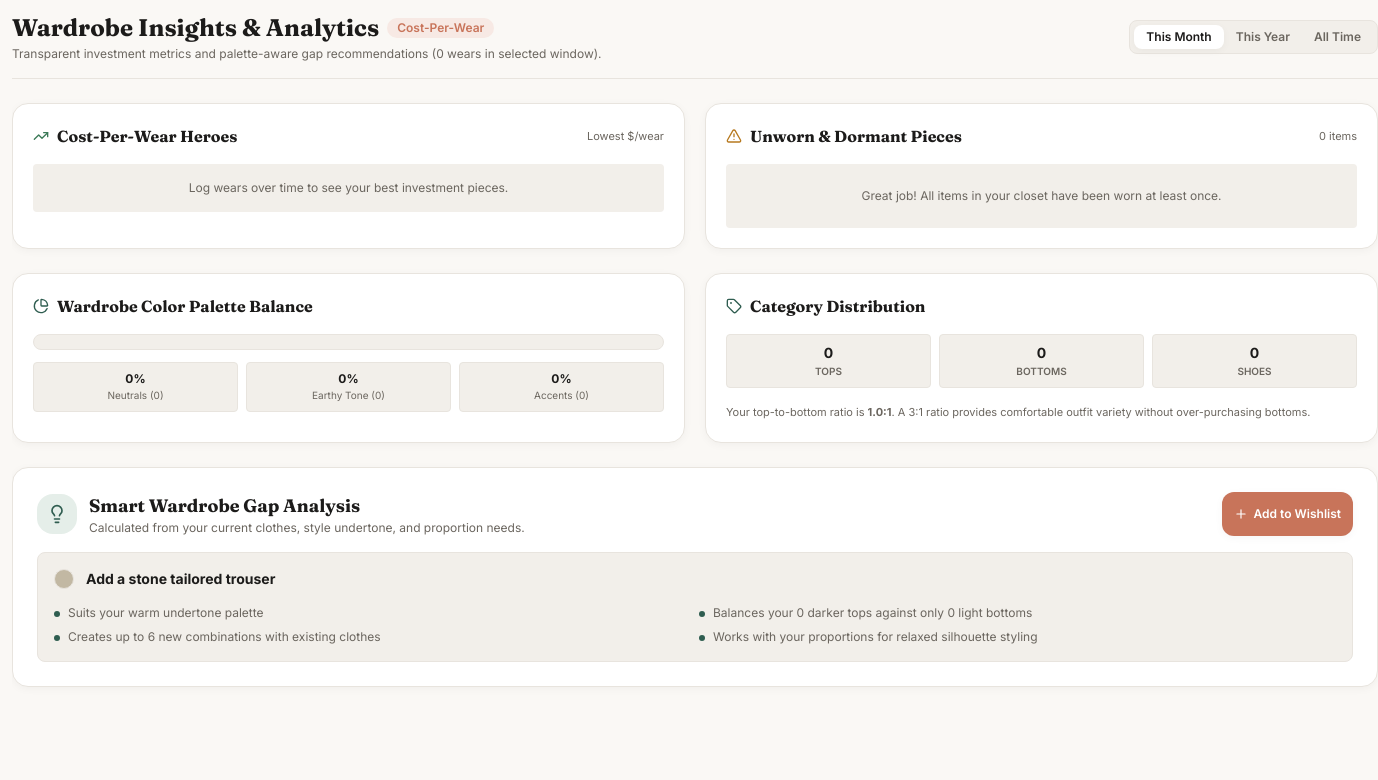
Phase 7: Me Screen, Privacy Center, Encrypted Backup & Wardrobe Intelligence › WardrobeInsights › calculates cost-per-wear and palette-aware gap analysis
Check: the heading "Wardrobe Insights & Analytics" is shown, box [12, 12, 379, 44]
Check: the heading "Smart Wardrobe Gap Analysis" is shown, box [89, 494, 360, 517]
// Check wishlist toggle
Click the button "Add to Wishlist" at (1287, 514), box [1222, 492, 1353, 536]
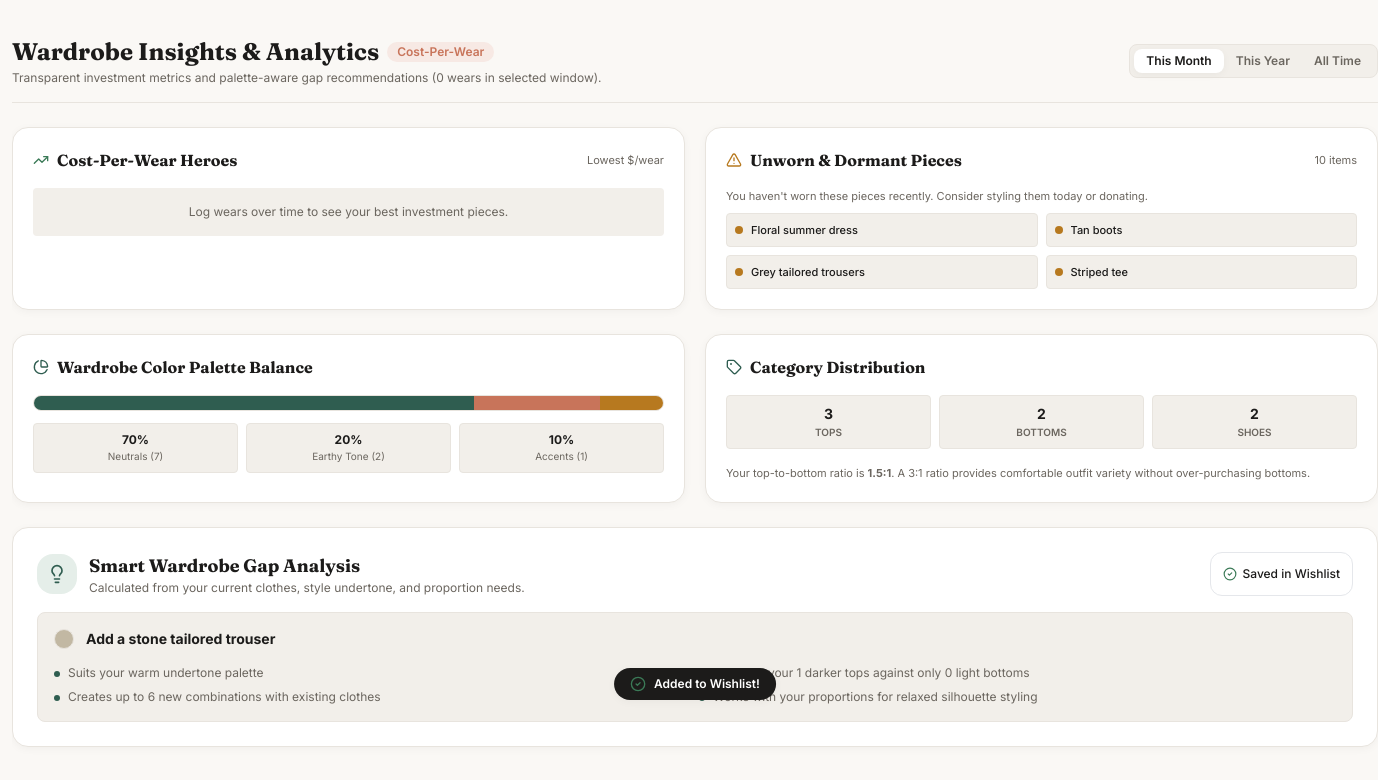
Check: the button "Saved in Wishlist" is shown, box [1210, 552, 1353, 596]
